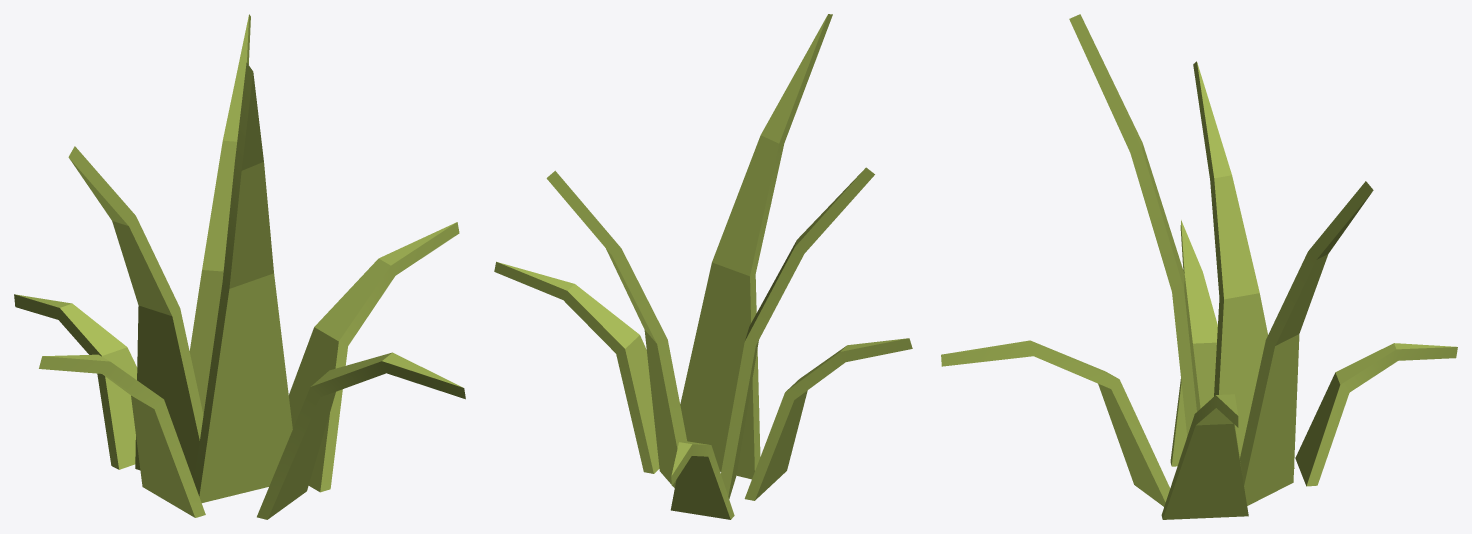
The model's file is LowPoly - Grass A.FBX.
The picture shows the model from 3 angles, left to right: view 1: azimuth 30°, elevation 25°; view 2: azimuth 150°, elevation 25°; view 3: azimuth 270°, elevation 25°; orthographic projection. The views are drawn at different scales.
Visible parts, largest first — view 1: LowPolyGrass_01; view 2: LowPolyGrass_01; view 3: LowPolyGrass_01.
Part boxes in pixels (box(x1,y1,x2,y2)): LowPolyGrass_01: box(14, 14, 465, 519); LowPolyGrass_01: box(494, 14, 912, 519); LowPolyGrass_01: box(941, 14, 1457, 519).
Size of the model in its own units: 76.84 by 79.81 by 83.38.
